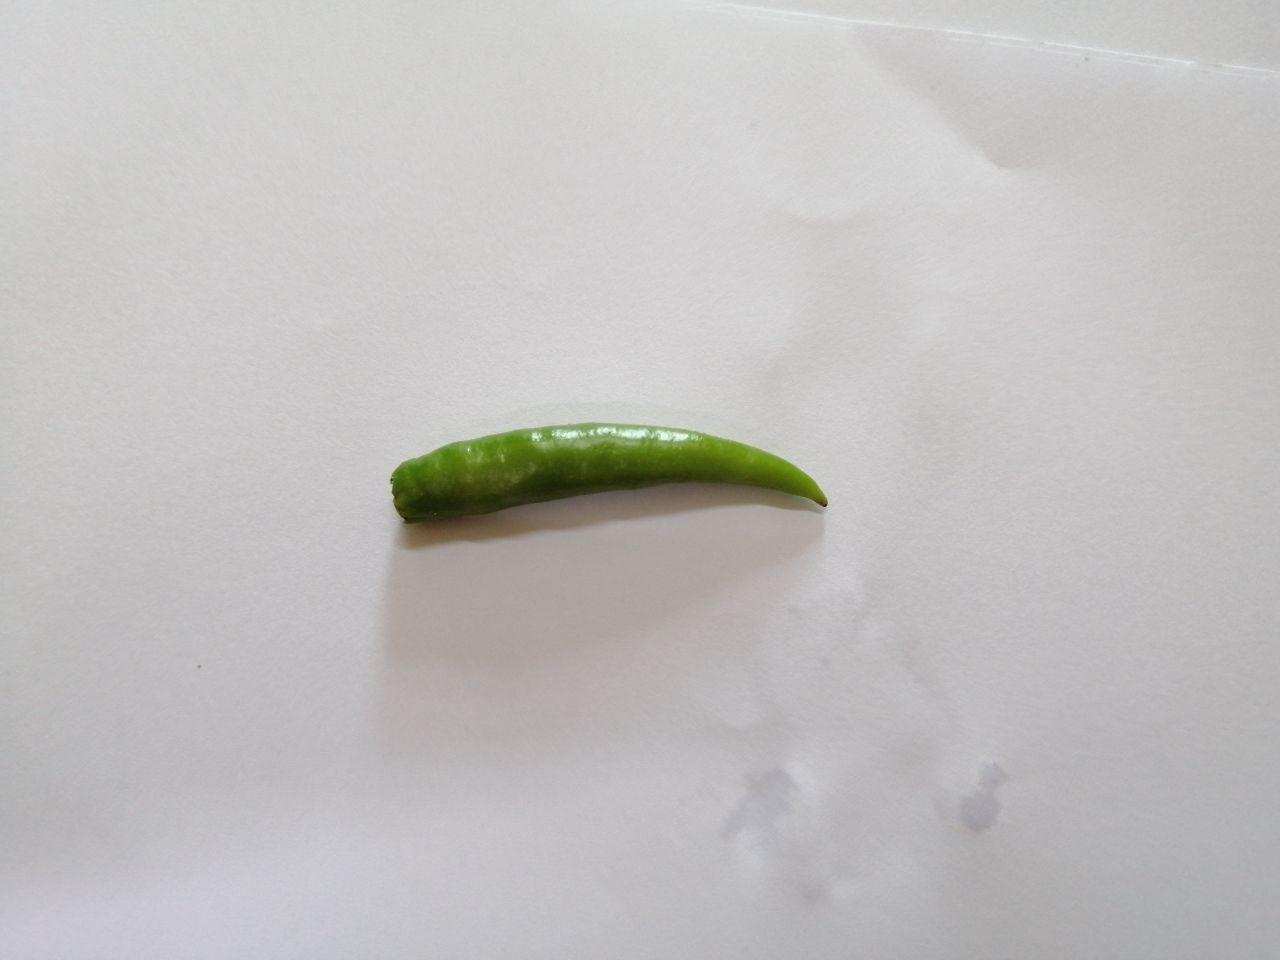lada hijau: (380, 406, 844, 556)
